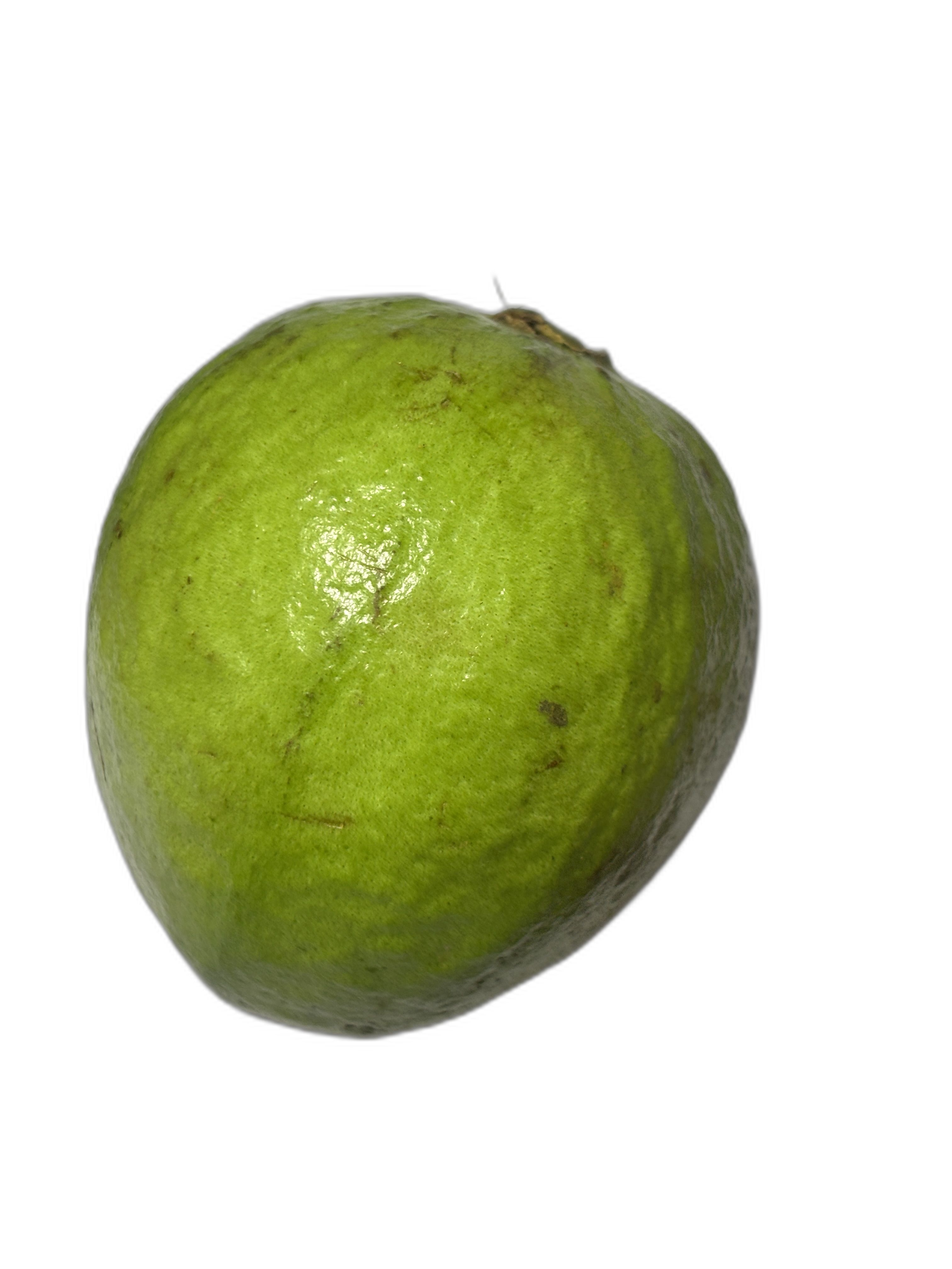guava: (68, 160, 709, 1193)
